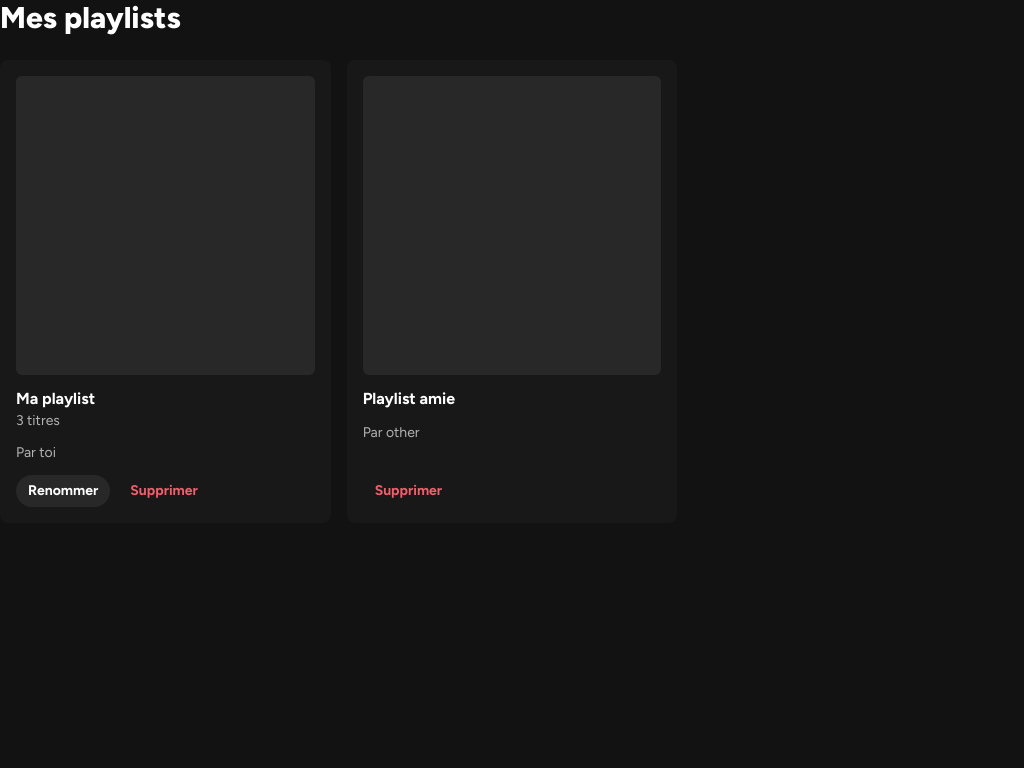
Test: PlaylistsPage › keeps the rename dialog open and shows an error on failure
Expected: the heading "Ma playlist" is shown, [16, 389, 95, 408]
Click the button "Renommer".
click(63, 491)  # box [16, 475, 110, 507]
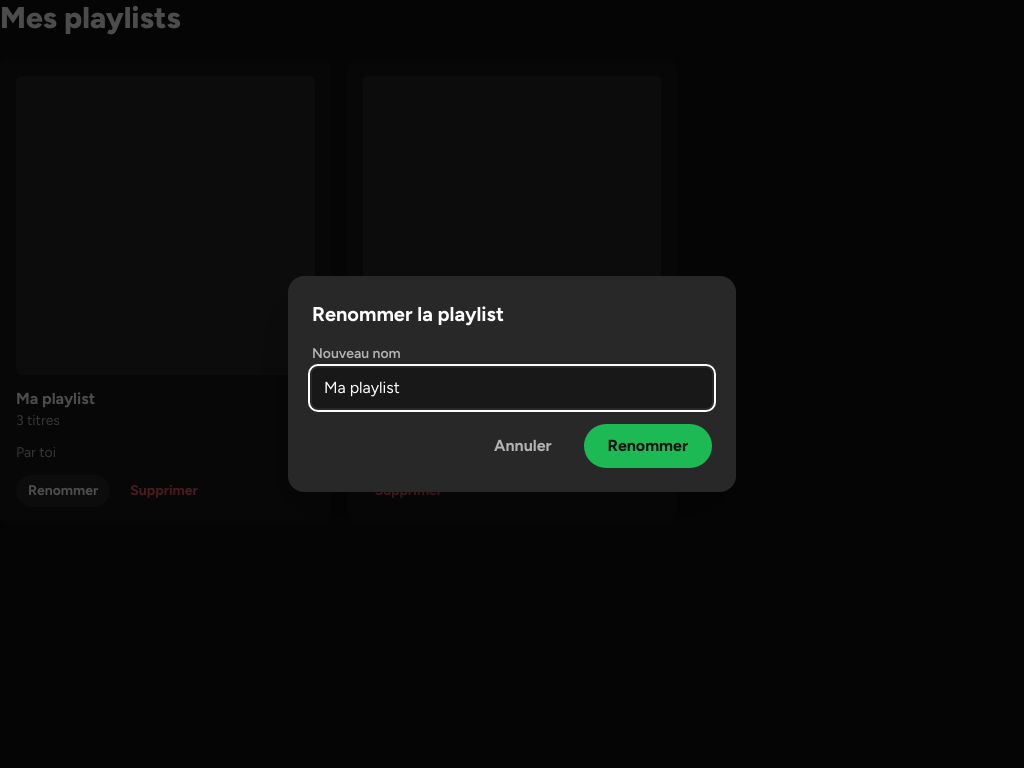
Type keys "X{Enter}"
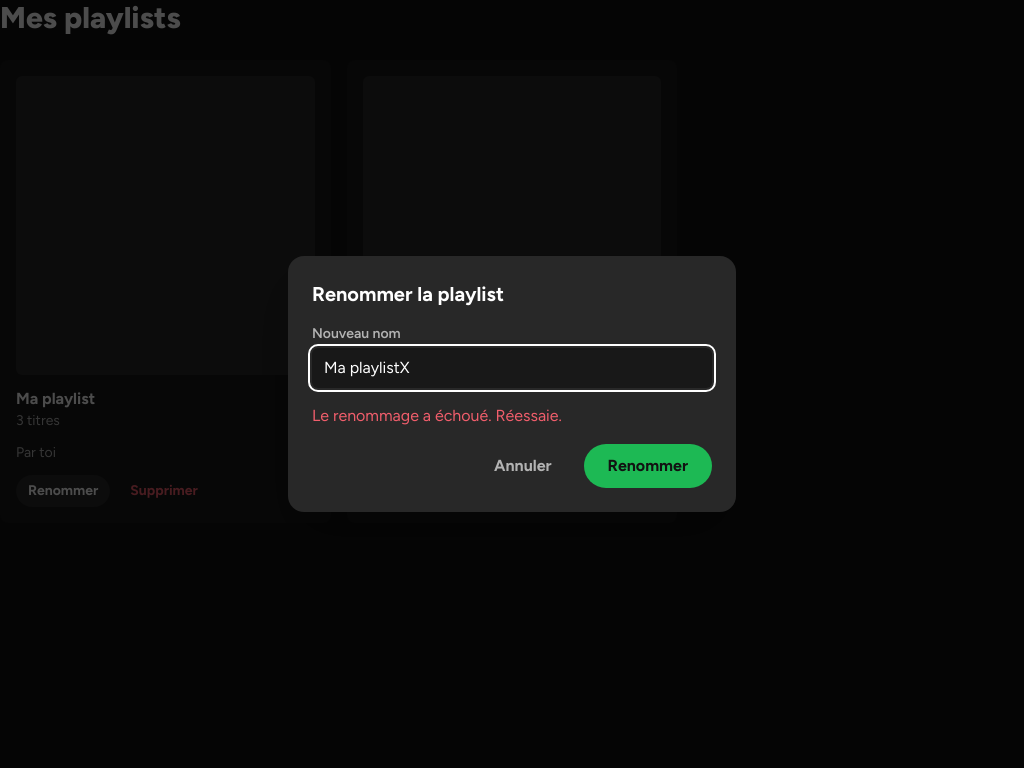
Expected: the dialog is shown, [288, 256, 736, 512]
Expected: the text "Le renommage a échoué. Réessaie." is shown, [312, 406, 562, 425]
